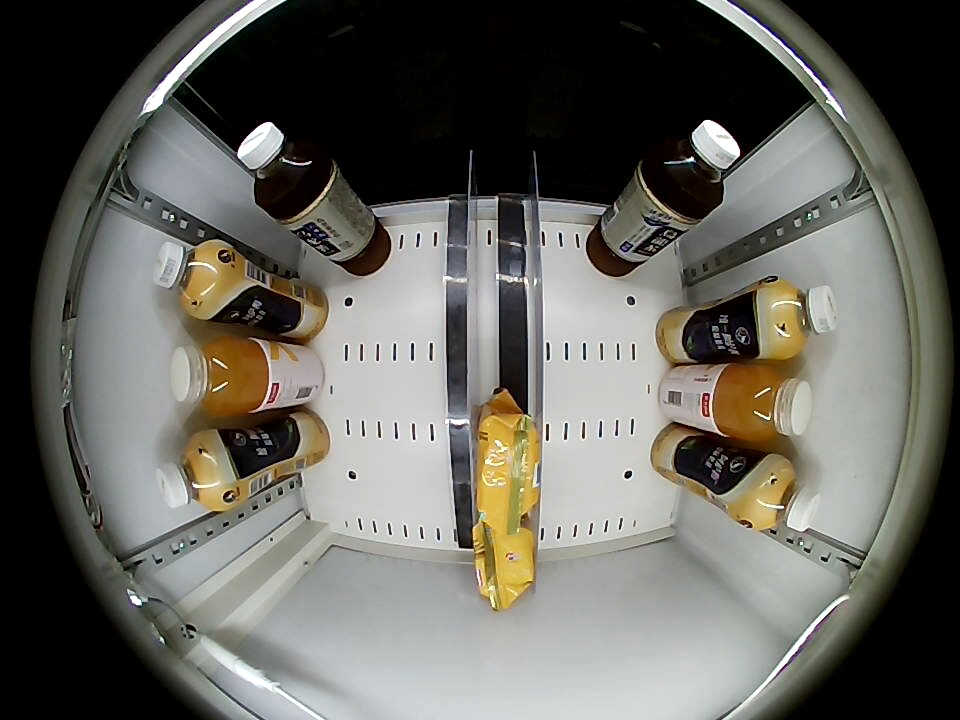asamu: (152, 239, 232, 317), (761, 279, 840, 357), (157, 431, 234, 511), (742, 457, 822, 533)
kaomo_gali: (474, 405, 541, 525), (473, 518, 537, 607)
weic: (170, 335, 270, 417), (713, 363, 814, 443)
wulongcha: (647, 119, 740, 217), (237, 121, 326, 213)
